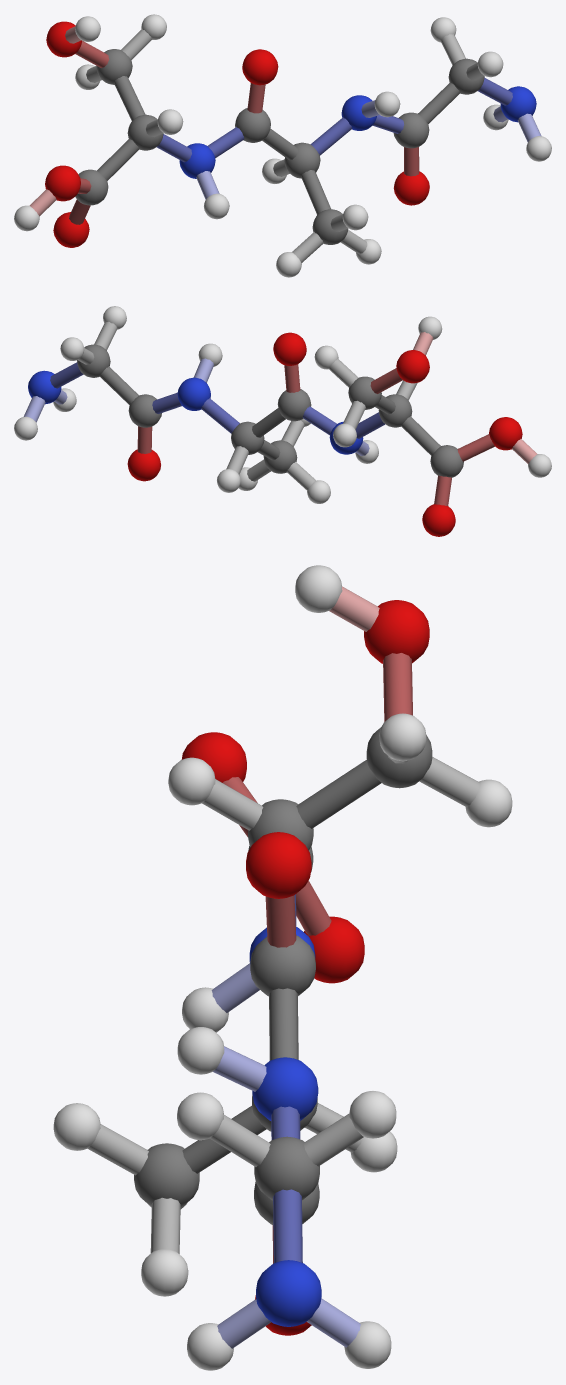
File: gly-ala-ser.glb
3 renders of one model, top to bottom at view 1: azimuth 30°, elevation 25°; view 2: azimuth 150°, elevation 25°; view 3: azimuth 270°, elevation 25°, orthographic. The views are drawn at different scales.
Size of the model in its own units: 0.3 by 0.1458 by 0.1188.
